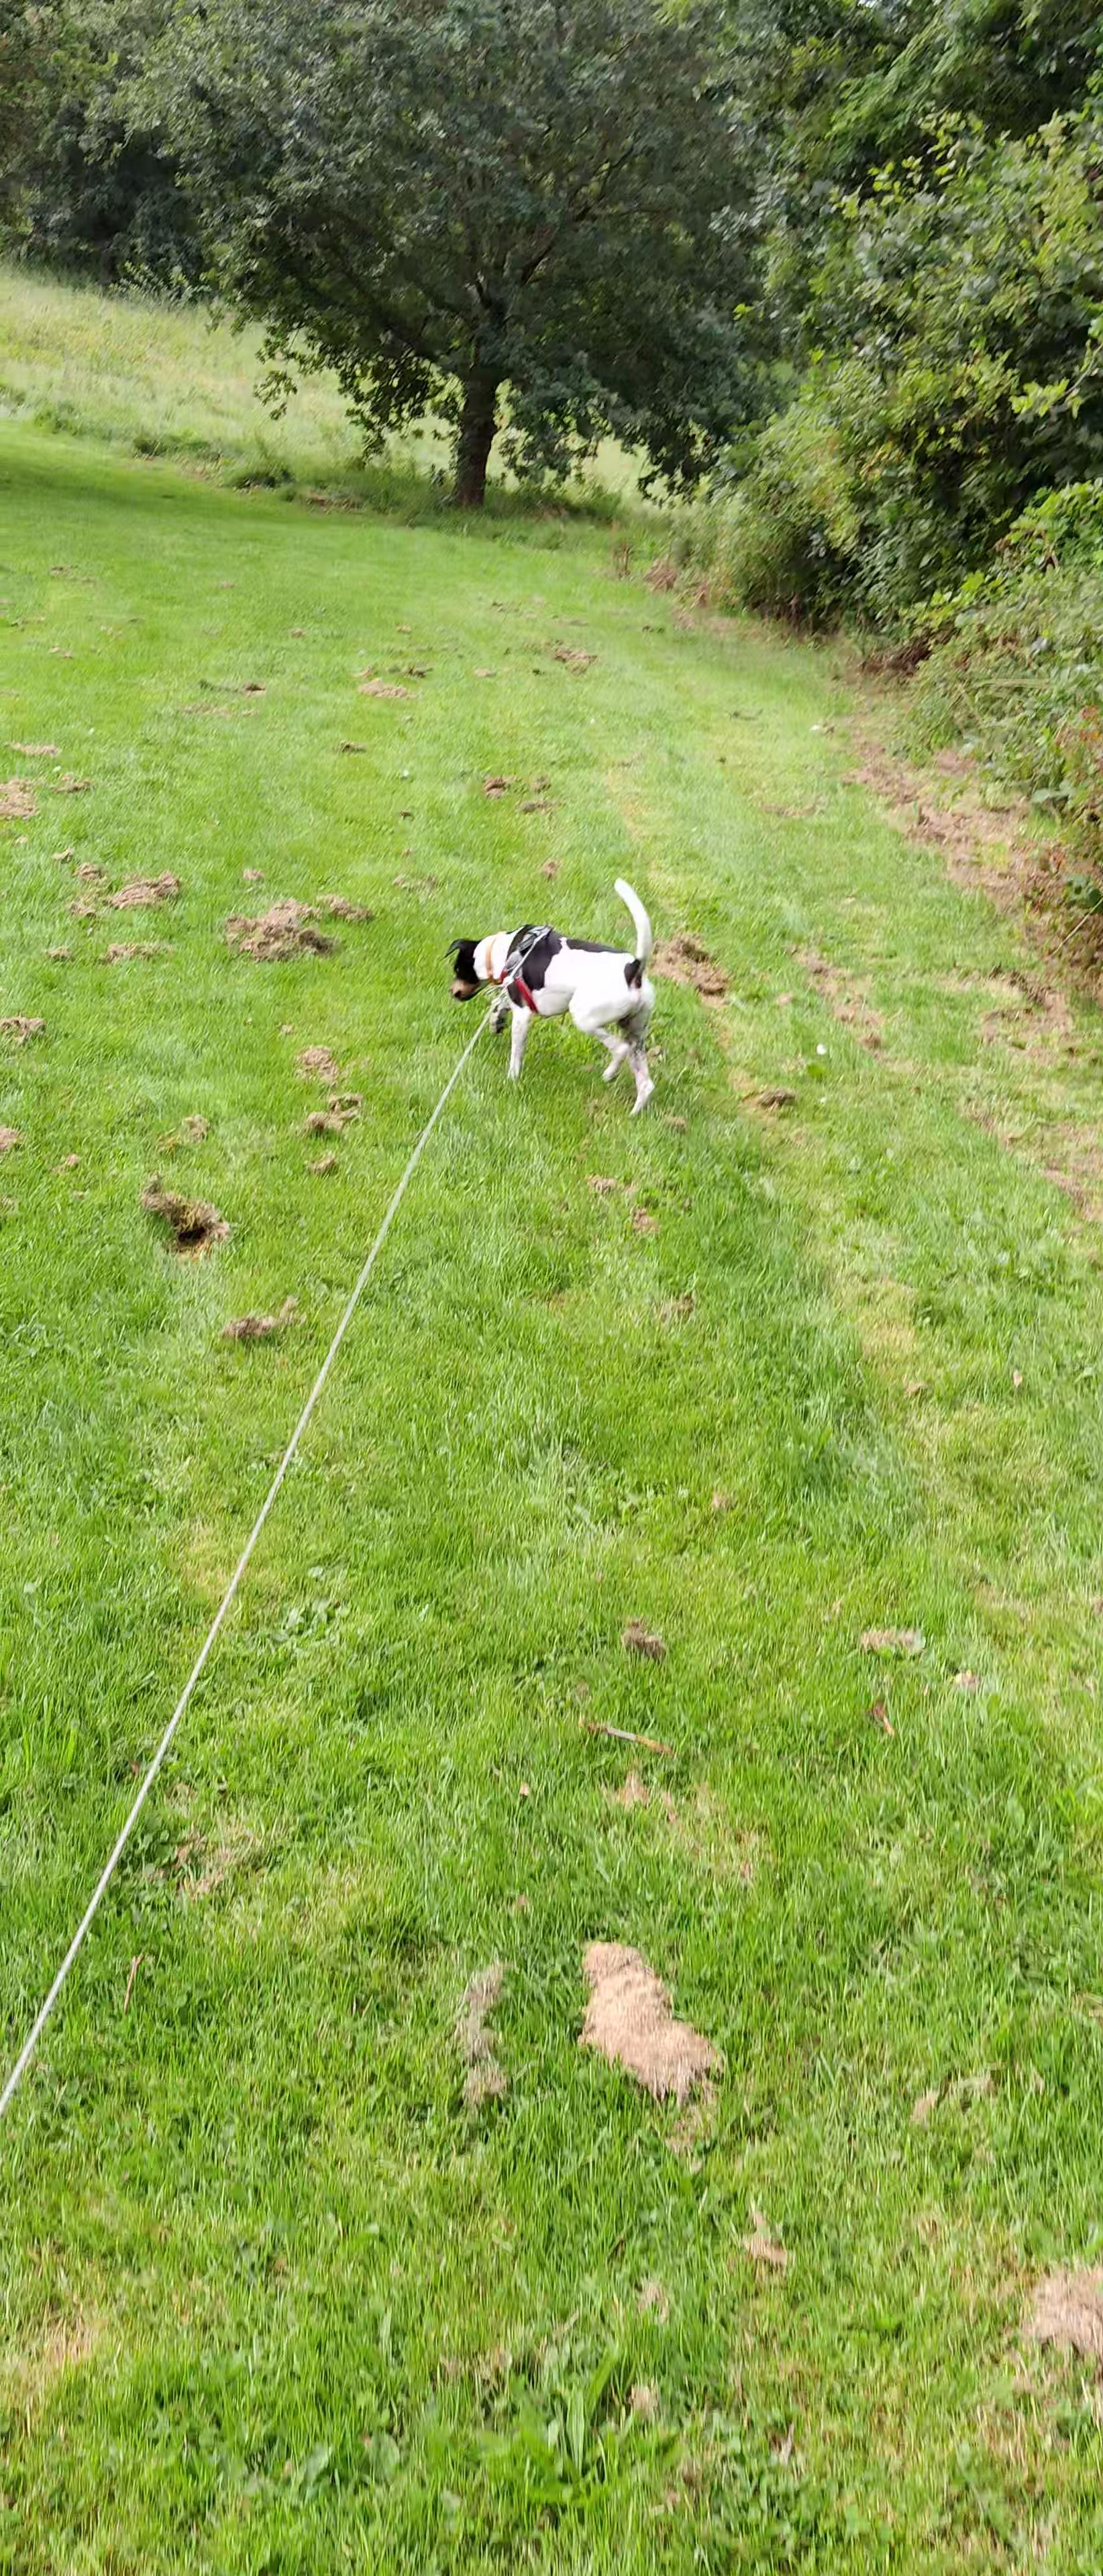Dog: (441, 874, 672, 1120)
